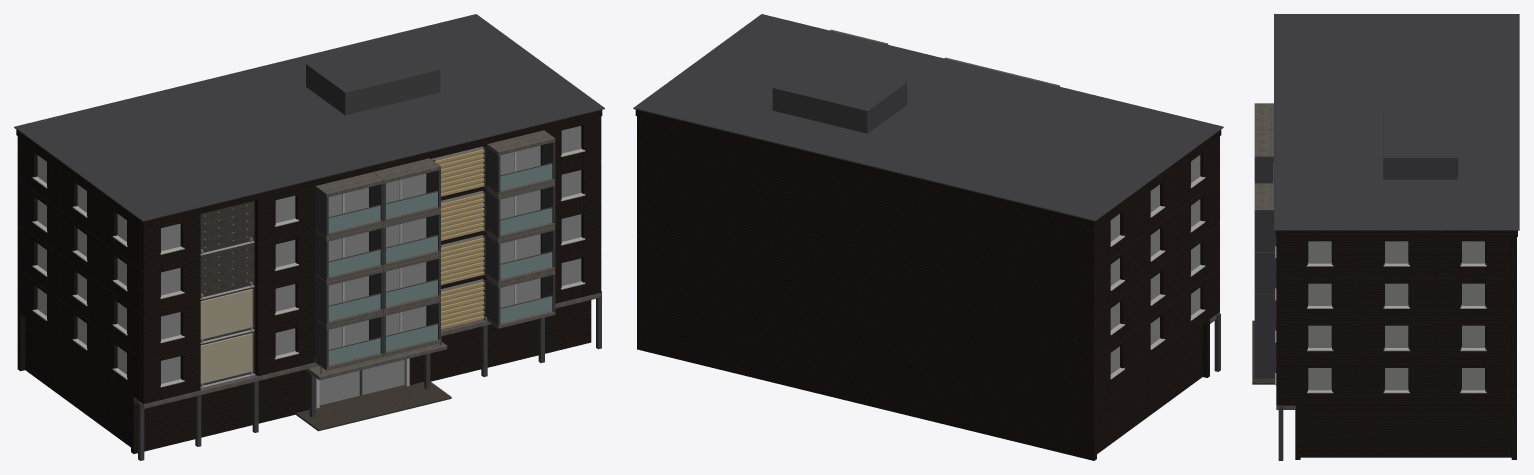
File: exterior-building.glb
3 renders of one model, left to right at view 1: azimuth 30°, elevation 25°; view 2: azimuth 150°, elevation 25°; view 3: azimuth 270°, elevation 25°, orthographic. The views are drawn at different scales.
Visible parts, largest first — view 1: exterior_building; view 2: exterior_building; view 3: exterior_building.
Boxes of the visible parts, box(x1,y1,x2,y2) form: exterior_building: box(14, 14, 604, 460); exterior_building: box(633, 14, 1223, 460); exterior_building: box(1252, 14, 1519, 460).
Bounding box in the file's own units: 33.94 × 18.62 × 17.77.
12 materials, 4 textured.
